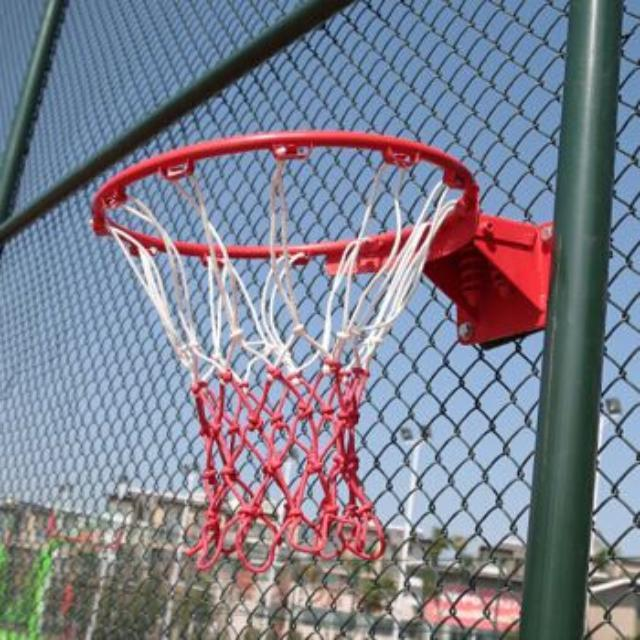rim: (96, 130, 477, 568)
